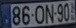0: (63, 3, 70, 21)
6: (21, 5, 30, 26)
8: (11, 5, 21, 26)
9: (56, 3, 63, 23)
N: (44, 3, 54, 24)
O: (34, 4, 44, 25)
